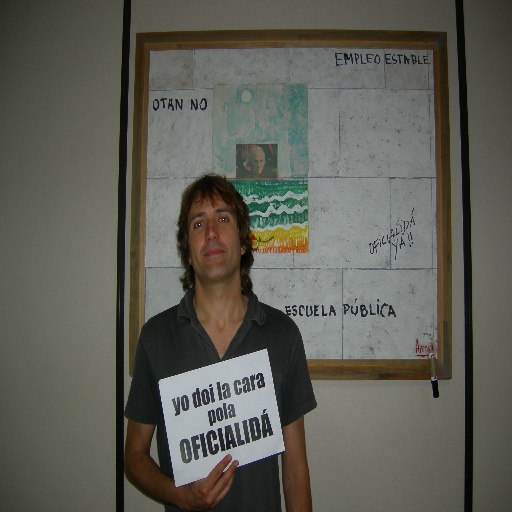hand: (189, 451, 241, 498)
